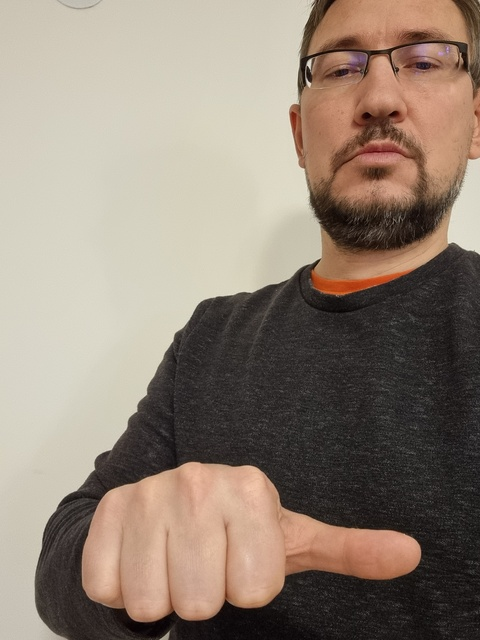GestBack: (81, 461, 421, 623)
